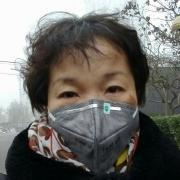OK: (47, 69, 140, 162)
